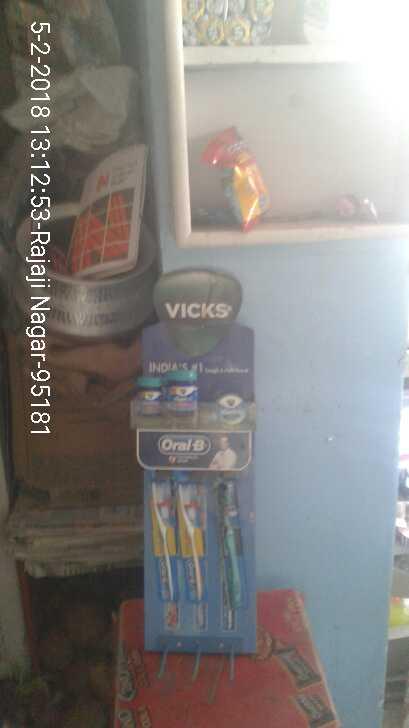pharmacy: (143, 456, 245, 613), (133, 365, 210, 419)
